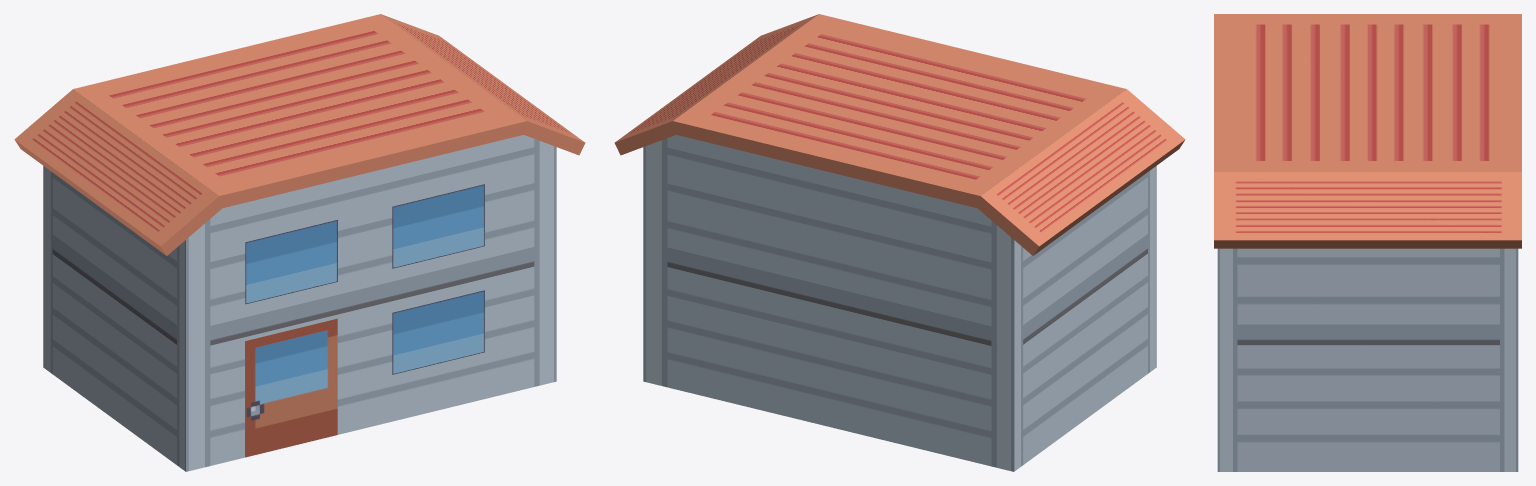
Rendered from pthouse.FBX.
3 views of the same model, side by side, from view 1: azimuth 30°, elevation 25°; view 2: azimuth 150°, elevation 25°; view 3: azimuth 270°, elevation 25° (orthographic). The views are drawn at different scales.
Parts seen in each view (by area): view 1: Box001, Box002, Box004, Plane001, Plane003, Plane002, Plane004, Box006; view 2: Box001, Box002, Box004, Box006; view 3: Box001, Box002, Box006.
Part boxes in pixels (box(x1,y1,x2,y2)): Box001: box(43, 135, 556, 471); Box002: box(73, 14, 526, 208); Box004: box(14, 89, 224, 255); Plane001: box(245, 318, 337, 457); Plane003: box(392, 184, 484, 268); Plane002: box(392, 290, 484, 374); Plane004: box(245, 220, 337, 304); Box006: box(381, 14, 585, 155); Box001: box(643, 135, 1156, 471); Box002: box(673, 14, 1126, 208); Box004: box(974, 89, 1185, 255); Box006: box(614, 14, 818, 155); Box001: box(1217, 248, 1518, 471); Box002: box(1214, 14, 1521, 171); Box006: box(1214, 172, 1521, 248).
Size of the model in its own units: 344 by 208 by 205.
4 materials, 4 textured.
